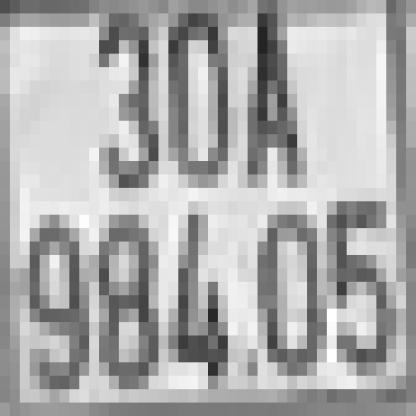0: (248, 202, 317, 362), (168, 13, 228, 188)
3: (89, 27, 159, 188)
4: (168, 201, 228, 376)
5: (317, 202, 386, 362)
8: (89, 201, 159, 376)
9: (30, 201, 89, 376)
A: (238, 13, 297, 188)
